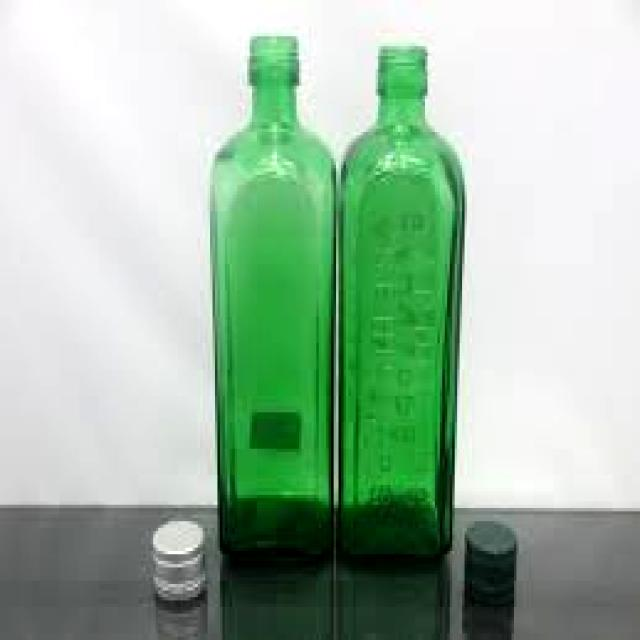Glass: (204, 30, 338, 569), (338, 36, 468, 562)
Metal: (152, 521, 206, 602)
Plastic: (465, 518, 517, 602)
